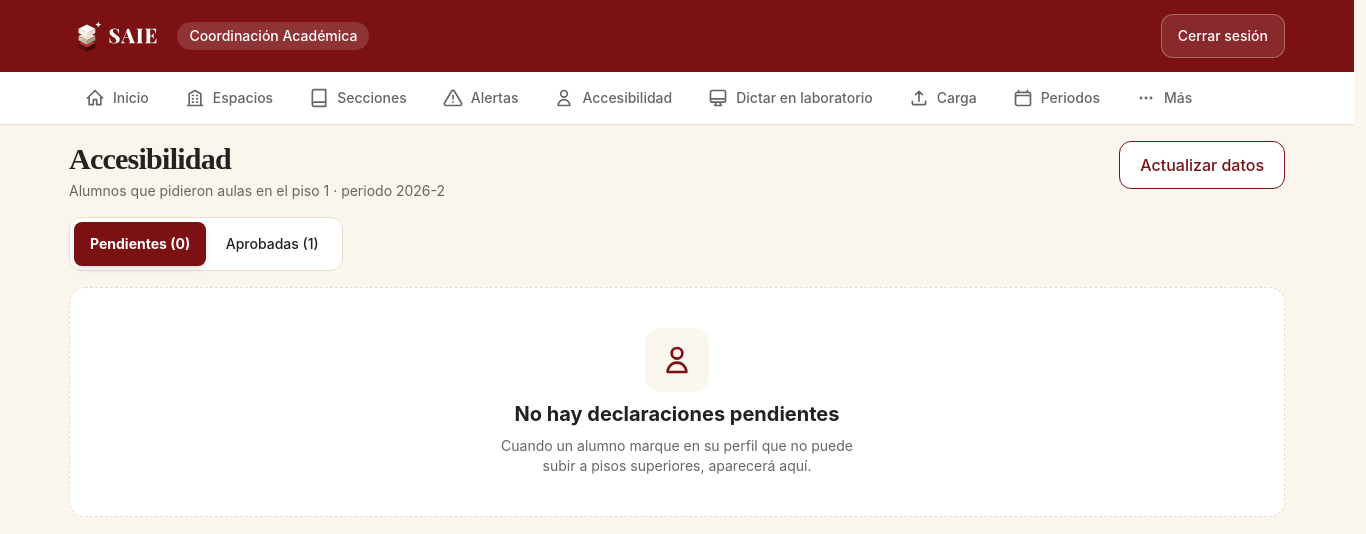
Test: AccesibilidadAdminPage (Issue 3.60) › muestra las aprobadas con su resultado y las clases que siguen fuera del piso 1
Expected: the heading "No hay declaraciones pendientes" is shown, [514,400,839,428]
Click the button "Aprobadas (1)" at (272, 244), box [206,222,338,266]
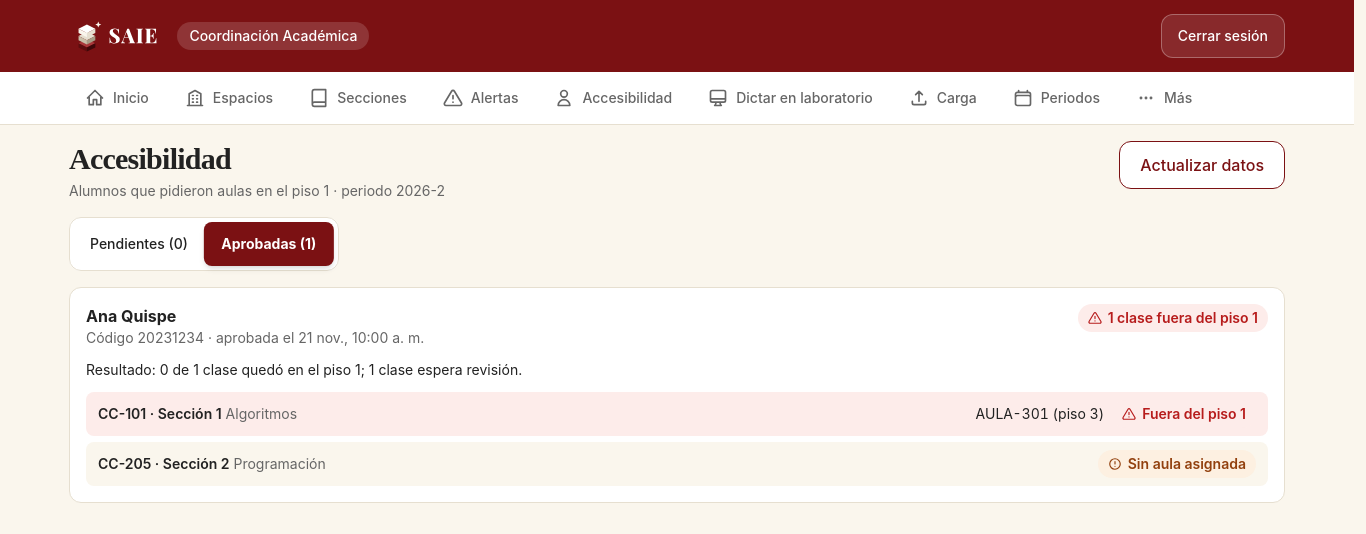
Result: the text "1 clase fuera del piso 1" is shown at [1108,308,1258,328]
Result: the text "Resultado: 0 de 1 clase" is shown at [86,361,522,378]
Result: the text "Sin aula asignada" is shown at [1128,454,1246,474]
